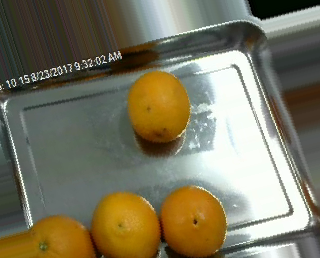Orange: (91, 190, 161, 258), (160, 185, 227, 256), (126, 70, 190, 144)
